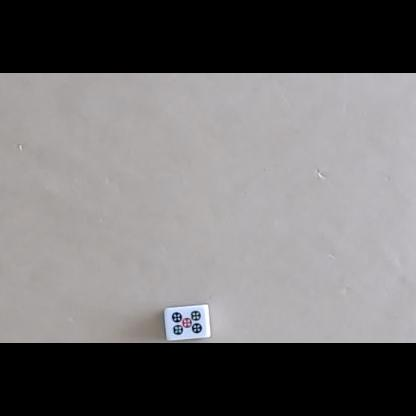5p: (171, 311, 202, 336)
